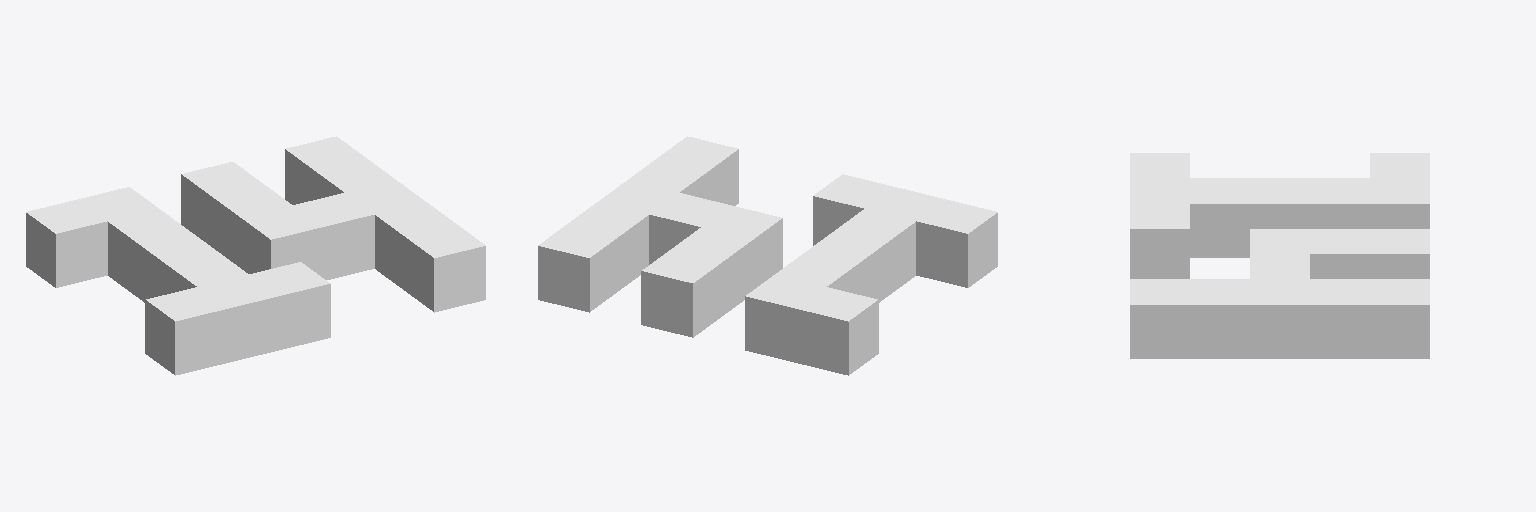
The model's file is Number-14.obj.
The picture shows the model from 3 angles: view 1: azimuth 30°, elevation 25°; view 2: azimuth 150°, elevation 25°; view 3: azimuth 270°, elevation 25°; orthographic projection.
Bounding box in the file's own units: 6 × 1 × 5.